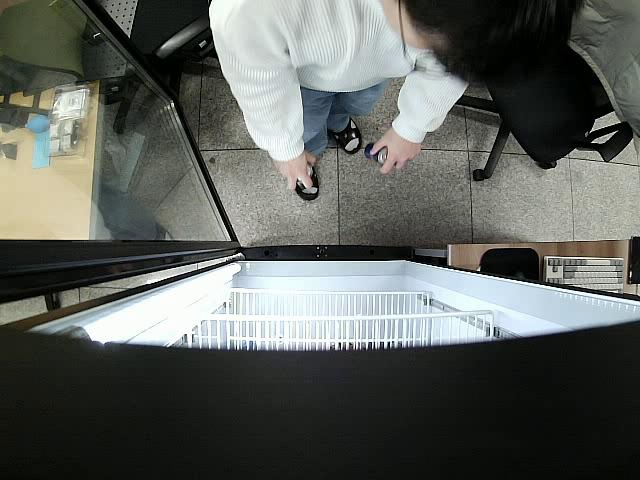00_hand: (371, 126, 422, 176), (273, 151, 317, 193)
16_hot6: (364, 141, 394, 167)
